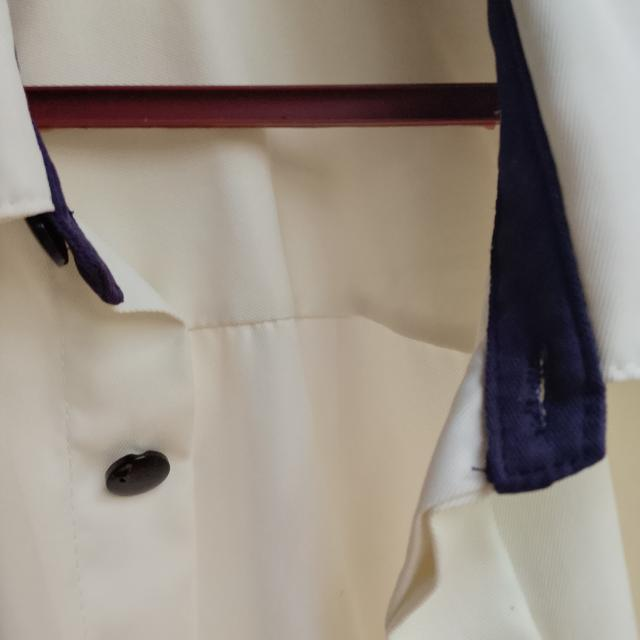education_male_uniform: (2, 4, 640, 607)
